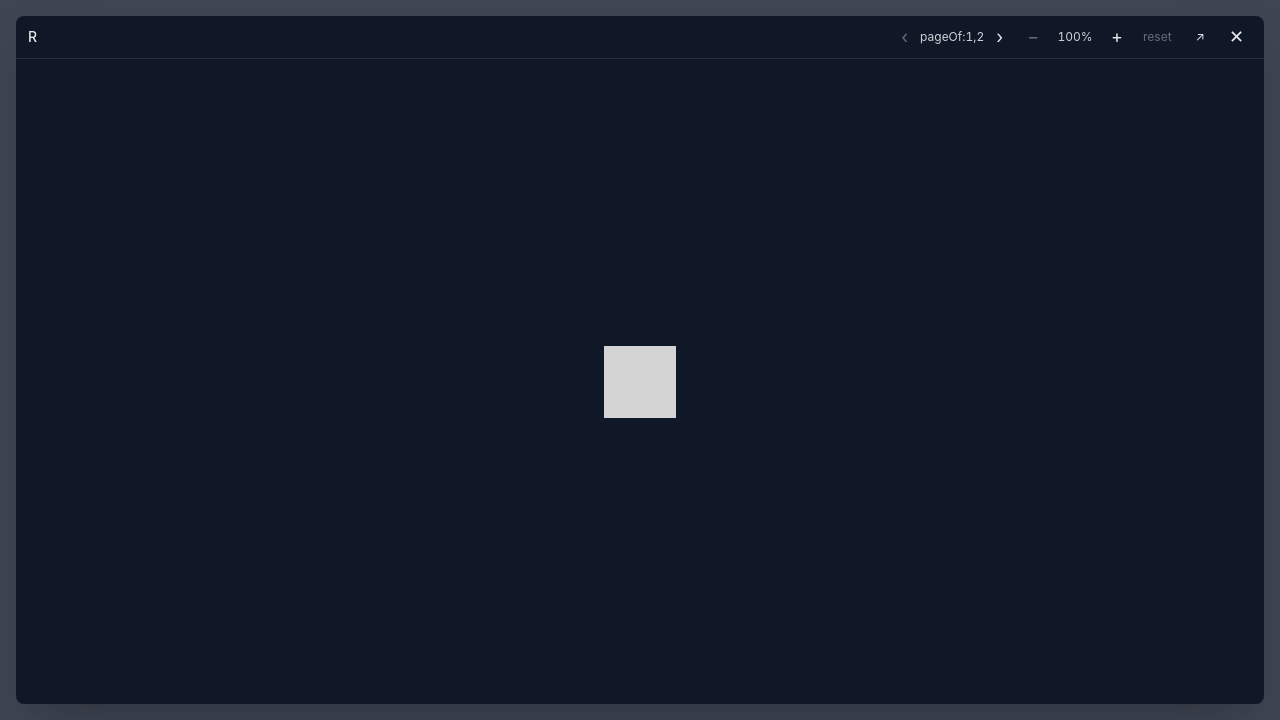
Scenario: DocumentViewer (8.18, generalized 8.27) › multi-page documents get a pager; zoom resets on page change (8.22)
Check: the text with test id "viewer-page-indicator" reads "pageOf:1,2", box [920, 29, 984, 44]
Check: the button with test id "viewer-prev-page" is disabled, box [893, 24, 916, 50]
Note: Zoom in, then flip a page — the transform resets for the new page.
Click the button with test id "viewer-zoom-in" at (1117, 37), box [1103, 24, 1131, 50]
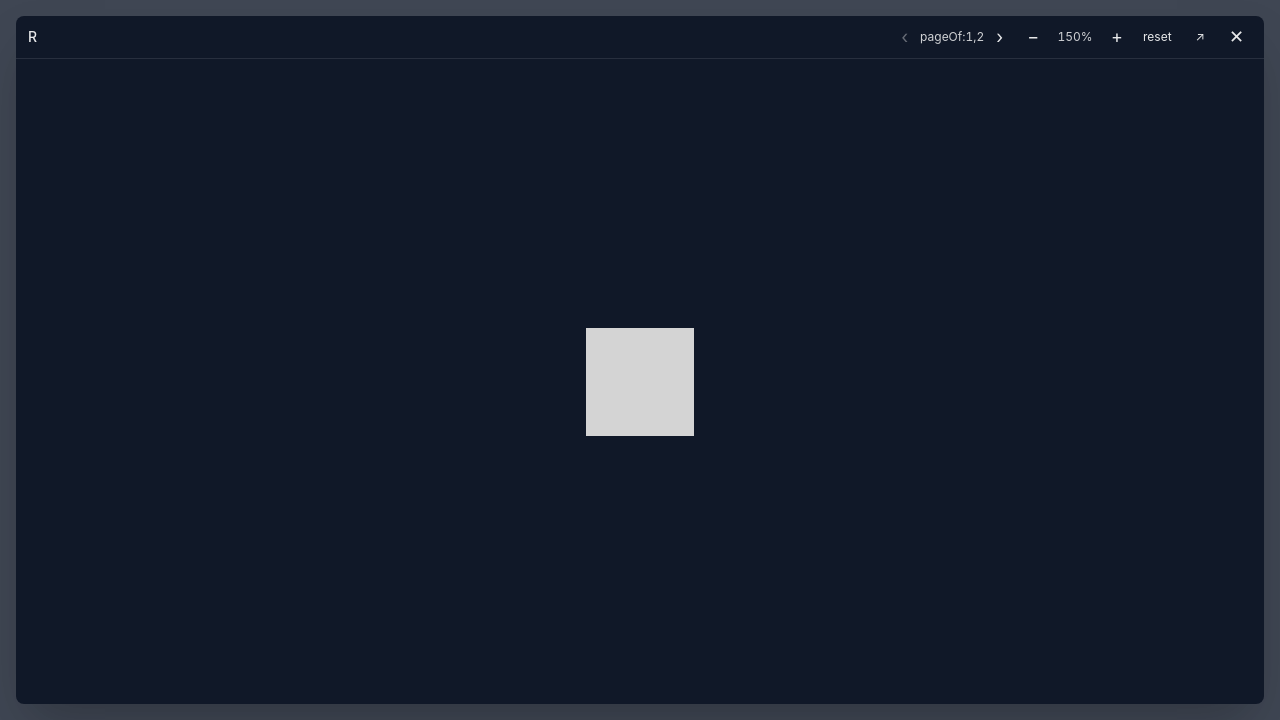
Check: the text with test id "viewer-zoom-level" reads "150%", box [1058, 29, 1093, 44]
Click the button with test id "viewer-next-page" at (1000, 37), box [988, 24, 1011, 50]
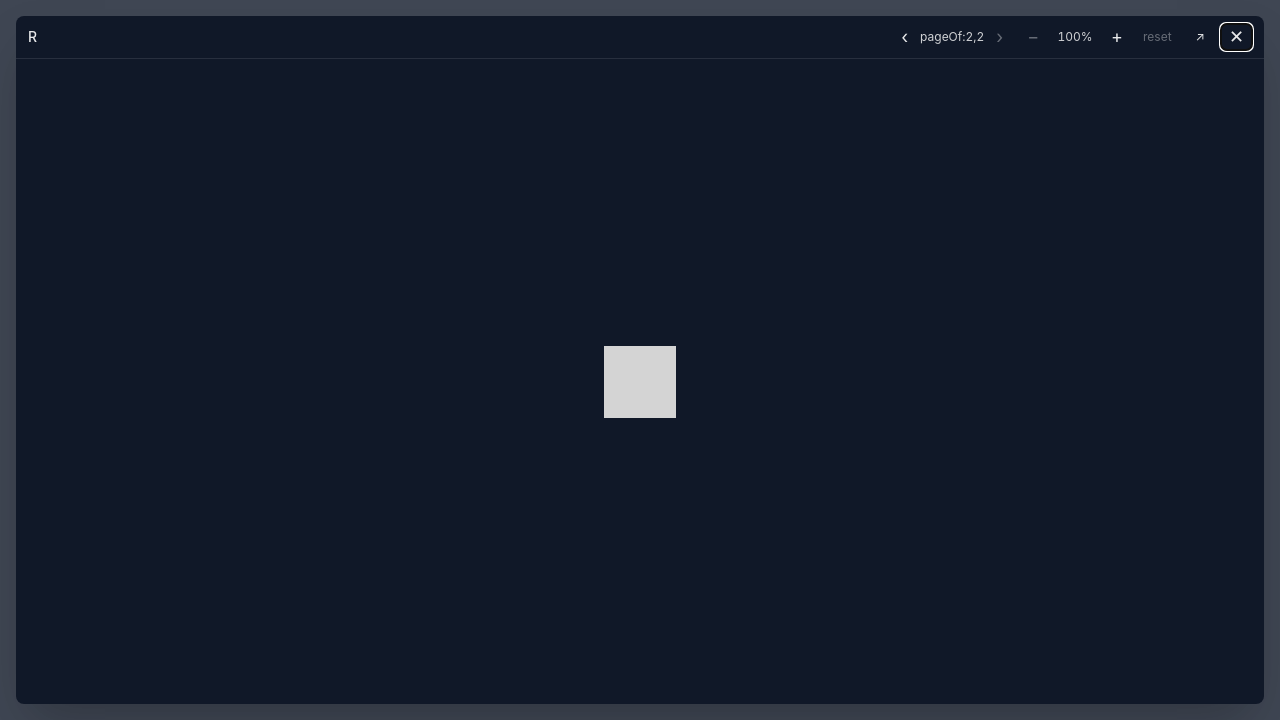
Check: the text with test id "viewer-page-indicator" reads "pageOf:2,2", box [920, 29, 984, 44]
Check: the text with test id "viewer-zoom-level" reads "100%", box [1058, 29, 1093, 44]
Check: the button with test id "viewer-next-page" is disabled, box [988, 24, 1011, 50]
